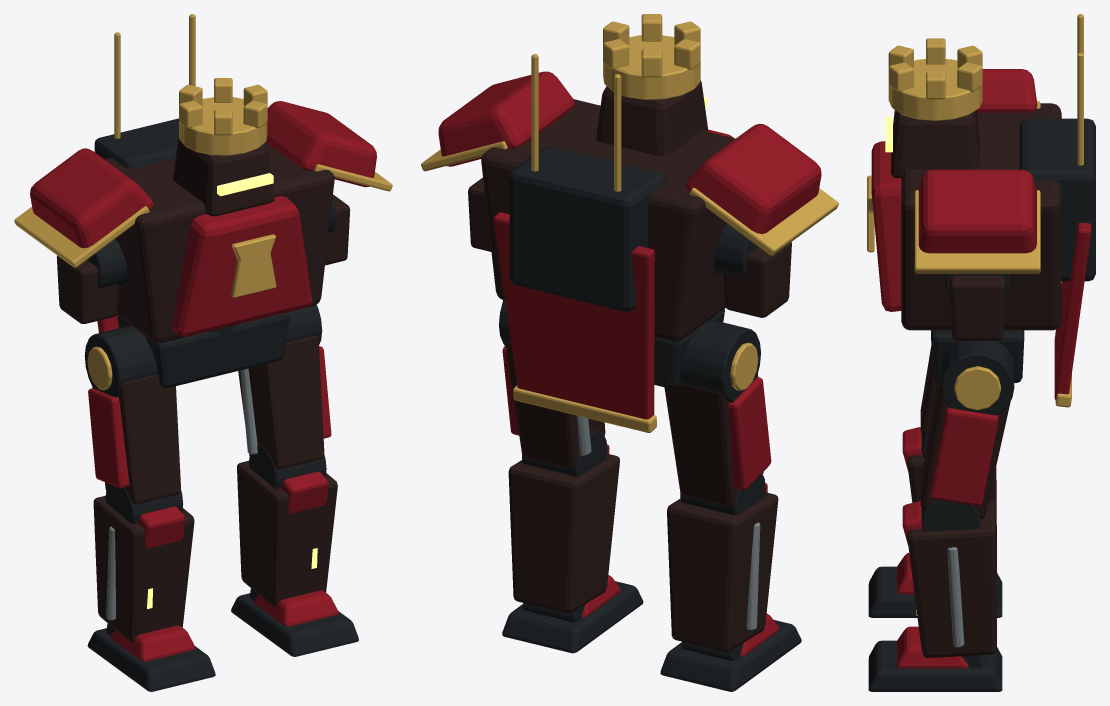
Rendered from mech_castle.glb.
3 views of the same model, side by side, from view 1: azimuth 30°, elevation 25°; view 2: azimuth 150°, elevation 25°; view 3: azimuth 270°, elevation 25° (orthographic). The views are drawn at different scales.
Parts seen in each view (by area): view 1: core, breastplate, shin_armor_R, shin_armor_L, thigh_armor_R, pauldron_L, thigh_armor_L, pelvis, pauldron_R, helm, foot_sole_L, foot_sole_R (+25 smaller); view 2: backpack, core, tabard, shin_armor_R, shin_armor_L, pauldron_L, thigh_armor_L, pauldron_R, helm, foot_sole_R, foot_sole_L, hip_joint_L (+18 smaller); view 3: core, pauldron_R, shin_armor_R, backpack, thigh_plate_R, helm, foot_sole_R, breastplate, upper_arm_R, crown_ring, hip_joint_R, pauldron_edge_R (+23 smaller).
Part boxes in pixels (left/top/right/bottom): core: left=104, top=142, right=334, bottom=343; breastplate: left=172, top=196, right=312, bottom=336; shin_armor_R: left=237, top=460, right=337, bottom=607; shin_armor_L: left=93, top=495, right=194, bottom=642; thigh_armor_R: left=238, top=335, right=324, bottom=469; pauldron_L: left=30, top=148, right=153, bottom=248; thigh_armor_L: left=92, top=374, right=180, bottom=504; pelvis: left=117, top=312, right=289, bottom=388; pauldron_R: left=265, top=101, right=376, bottom=187; helm: left=173, top=138, right=274, bottom=216; foot_sole_L: left=87, top=628, right=215, bottom=691; foot_sole_R: left=231, top=593, right=358, bottom=656; backpack: left=509, top=146, right=666, bottom=311; core: left=481, top=99, right=735, bottom=341; tabard: left=493, top=212, right=654, bottom=419; shin_armor_R: left=508, top=454, right=619, bottom=613; shin_armor_L: left=667, top=492, right=778, bottom=651; pauldron_L: left=685, top=124, right=821, bottom=233; thigh_armor_L: left=664, top=374, right=763, bottom=507; pauldron_R: left=438, top=71, right=574, bottom=166; helm: left=596, top=80, right=708, bottom=156; foot_sole_R: left=502, top=581, right=643, bottom=653; foot_sole_L: left=660, top=619, right=801, bottom=691; hip_joint_L: left=680, top=319, right=760, bottom=402; core: left=901, top=103, right=1061, bottom=330; pauldron_R: left=918, top=169, right=1036, bottom=253; shin_armor_R: left=907, top=500, right=996, bottom=657; backpack: left=1019, top=118, right=1095, bottom=281; thigh_plate_R: left=930, top=407, right=998, bottom=506; helm: left=891, top=110, right=979, bottom=178; foot_sole_R: left=868, top=640, right=1002, bottom=691; breastplate: left=871, top=141, right=901, bottom=311; upper_arm_R: left=950, top=275, right=1005, bottom=340; crown_ring: left=888, top=59, right=982, bottom=120; hip_joint_R: left=941, top=340, right=1014, bottom=415; pauldron_edge_R: left=914, top=190, right=1040, bottom=273.
Bounding box in the file's own units: 5.14 × 8.75 × 3.
